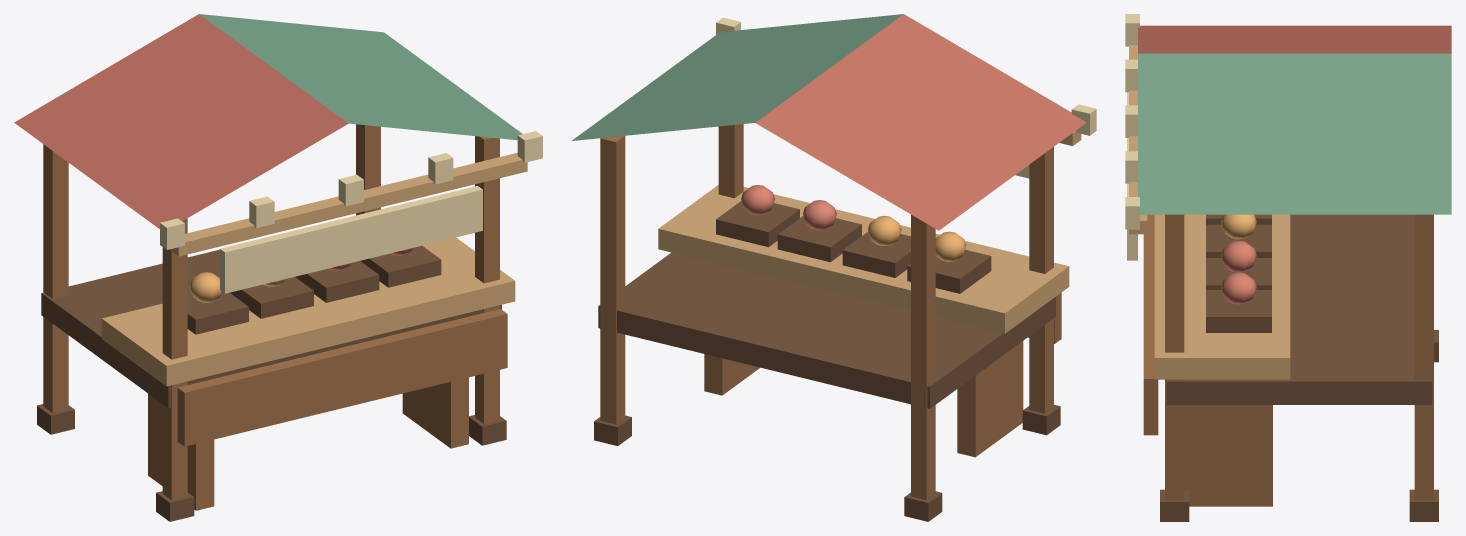
File: market-stall.glb
3 views of the same model, side by side, from view 1: azimuth 30°, elevation 25°; view 2: azimuth 150°, elevation 25°; view 3: azimuth 270°, elevation 25° (orthographic). The views are drawn at different scales.
Visible parts, largest first — view 1: market-stall_wood, market-stall_awningMain, market-stall_woodLight, market-stall_woodDark, market-stall_awningAccent, market-stall_canvas, market-stall_fruitOrange; view 2: market-stall_woodDark, market-stall_awningMain, market-stall_wood, market-stall_awningAccent, market-stall_woodLight, market-stall_fruitRed, market-stall_fruitOrange, market-stall_canvas; view 3: market-stall_awningAccent, market-stall_woodDark, market-stall_wood, market-stall_woodLight, market-stall_awningMain, market-stall_canvas, market-stall_fruitRed, market-stall_fruitOrange.
Boxes of the visible parts, box(x1,y1,x2,y2) form: market-stall_wood: box(43, 124, 507, 510); market-stall_awningMain: box(14, 14, 348, 228); market-stall_woodLight: box(101, 152, 527, 386); market-stall_woodDark: box(37, 246, 506, 521); market-stall_awningAccent: box(199, 14, 522, 140); market-stall_canvas: box(160, 131, 542, 293); market-stall_fruitOrange: box(189, 272, 285, 302); market-stall_woodDark: box(594, 201, 1060, 521); market-stall_awningMain: box(755, 14, 1086, 230); market-stall_wood: box(600, 124, 1061, 500); market-stall_awningAccent: box(572, 14, 903, 140); market-stall_woodLight: box(658, 131, 1081, 333); market-stall_fruitRed: box(741, 185, 836, 230); market-stall_fruitOrange: box(867, 215, 966, 261); market-stall_canvas: box(716, 17, 1096, 178); market-stall_awningAccent: box(1138, 53, 1451, 214); market-stall_woodDark: box(1160, 214, 1438, 521); market-stall_wood: box(1143, 214, 1433, 506); market-stall_woodLight: box(1129, 45, 1290, 379); market-stall_awningMain: box(1138, 25, 1451, 53); market-stall_canvas: box(1125, 14, 1139, 260); market-stall_fruitRed: box(1221, 240, 1256, 304); market-stall_fruitOrange: box(1221, 214, 1256, 239).
Size of the model in its own units: 2.48 by 2.31 by 1.78.
